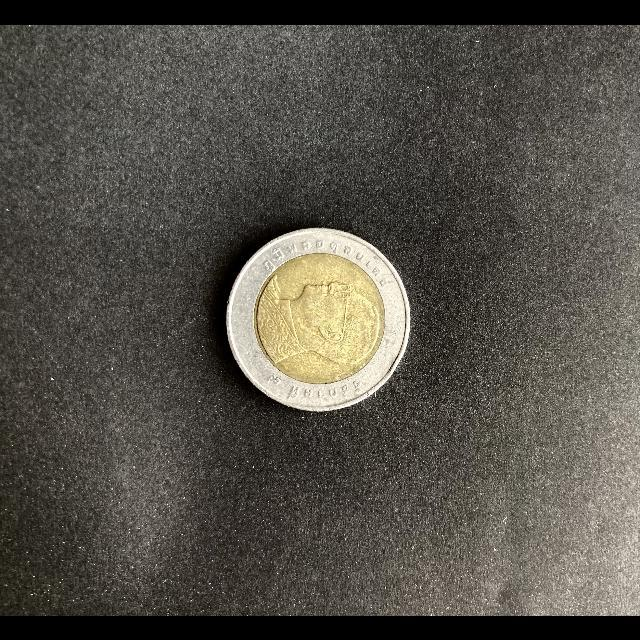10 Bath: (226, 225, 416, 414)
